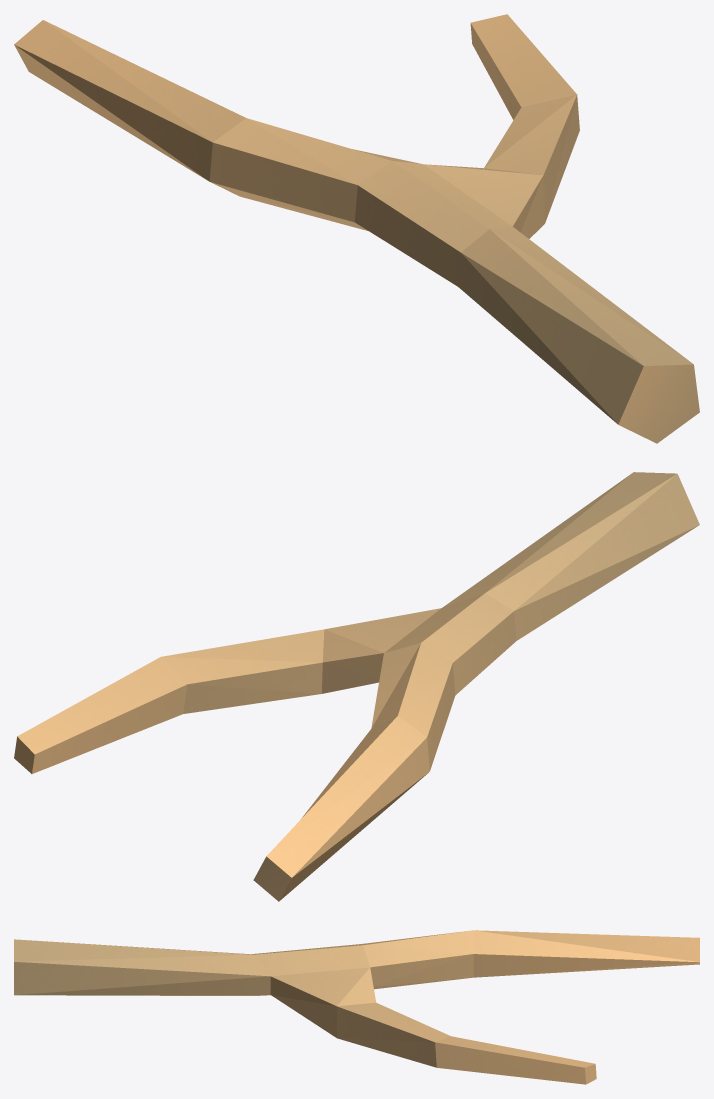
Rendered from Tree_4.fbx.
3 views of the same model, one above another, from view 1: azimuth 30°, elevation 25°; view 2: azimuth 150°, elevation 25°; view 3: azimuth 270°, elevation 25° (orthographic). The views are drawn at different scales.
Visible parts, largest first — view 1: pCylinder13; view 2: pCylinder13; view 3: pCylinder13.
Part boxes in pixels (box(x1,y1,x2,y2)): pCylinder13: box(14, 14, 699, 443); pCylinder13: box(14, 472, 699, 901); pCylinder13: box(14, 930, 699, 1084).
Size of the model in its own units: 0.885 by 0.1723 by 2.02.
Materials: 1 (1 with a texture image).
